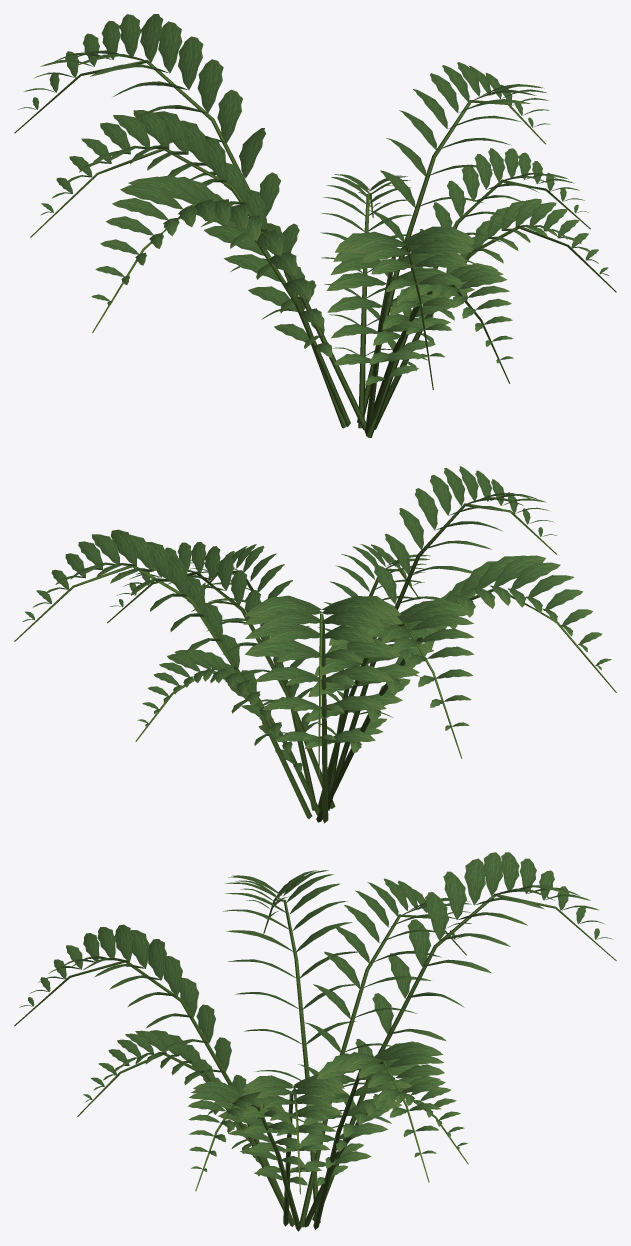
File: LadyFern_B.fbx
3 views of the same model, one above another, from view 1: azimuth 30°, elevation 25°; view 2: azimuth 150°, elevation 25°; view 3: azimuth 270°, elevation 25° (orthographic). The views are drawn at different scales.
Visible parts, largest first — view 1: LadyFern_B_LOD0; view 2: LadyFern_B_LOD0; view 3: LadyFern_B_LOD0.
Part boxes in pixels (x1=…): LadyFern_B_LOD0: x1=14, y1=14, x2=616, y2=437; LadyFern_B_LOD0: x1=14, y1=466, x2=616, y2=823; LadyFern_B_LOD0: x1=14, y1=852, x2=616, y2=1231.
Size of what is drawn, in the model's own units: 53.14 by 31.44 by 56.61.
1 material, 1 textured.
